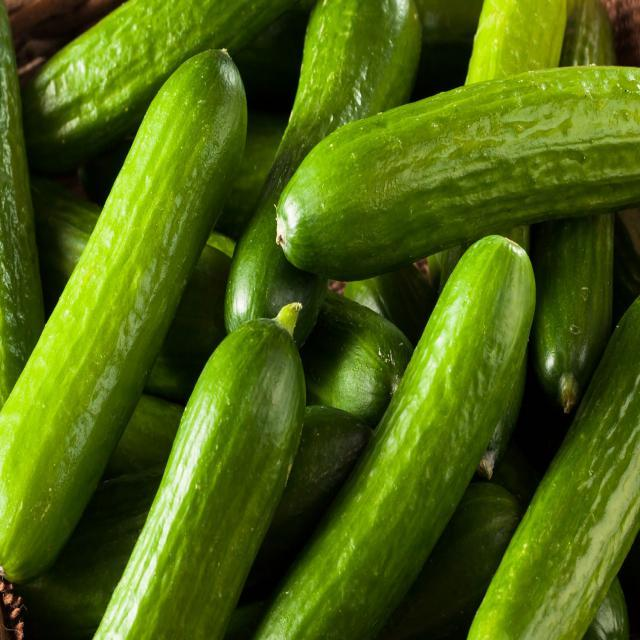cucumber: (1, 43, 247, 584), (251, 232, 535, 640), (274, 63, 640, 275), (92, 309, 308, 640), (223, 3, 419, 340), (462, 286, 640, 640), (23, 1, 298, 159)
